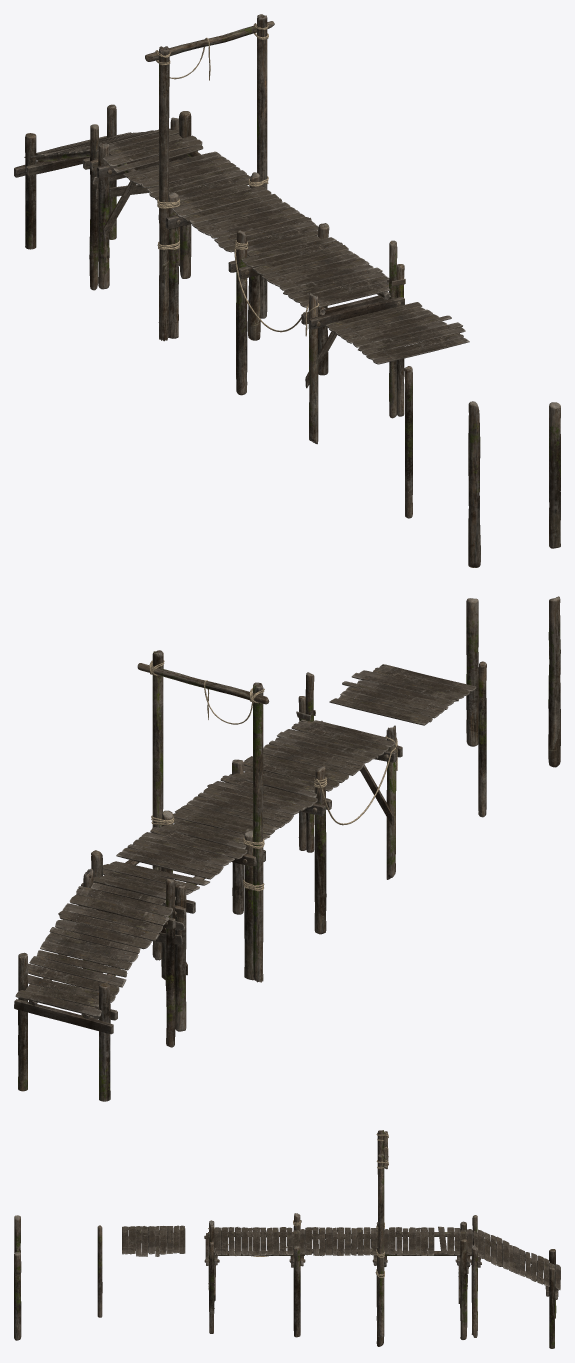
Rendered from modular_wooden_pier.gltf.
The picture shows the model from 3 angles, top to bottom: view 1: azimuth 30°, elevation 25°; view 2: azimuth 150°, elevation 25°; view 3: azimuth 270°, elevation 25°; orthographic projection. The views are drawn at different scales.
Parts seen in each view (by area): view 1: modular_wooden_pier_section_01, modular_wooden_pier_section_03, modular_wooden_pier_section_02, modular_wooden_pier_section_05, modular_wooden_pier_section_04, modular_wooden_pier_planks, modular_wooden_pier_poles; view 2: modular_wooden_pier_section_04, modular_wooden_pier_section_01, modular_wooden_pier_section_03, modular_wooden_pier_section_02, modular_wooden_pier_section_05, modular_wooden_pier_poles, modular_wooden_pier_planks; view 3: modular_wooden_pier_section_01, modular_wooden_pier_section_04, modular_wooden_pier_section_03, modular_wooden_pier_section_02, modular_wooden_pier_planks, modular_wooden_pier_section_05, modular_wooden_pier_poles.
Boxes of the visible parts, x1,y1,x2,y2 form: modular_wooden_pier_section_01: (228,223,405,444); modular_wooden_pier_section_03: (89,111,250,289); modular_wooden_pier_section_02: (158,172,318,340); modular_wooden_pier_section_05: (145,14,274,341); modular_wooden_pier_section_04: (14,104,179,290); modular_wooden_pier_planks: (325,302,469,364); modular_wooden_pier_poles: (404,366,560,567); modular_wooden_pier_section_04: (14,868,175,1101); modular_wooden_pier_section_01: (225,672,402,934); modular_wooden_pier_section_03: (81,827,247,1031); modular_wooden_pier_section_02: (160,775,317,980); modular_wooden_pier_section_05: (137,650,269,982); modular_wooden_pier_poles: (466,596,560,817); modular_wooden_pier_planks: (329,664,476,725); modular_wooden_pier_section_01: (204,1213,305,1337); modular_wooden_pier_section_04: (471,1215,560,1348); modular_wooden_pier_section_03: (376,1221,473,1339); modular_wooden_pier_section_02: (292,1222,389,1346); modular_wooden_pier_planks: (122,1225,185,1256); modular_wooden_pier_section_05: (375,1130,388,1337); modular_wooden_pier_poles: (14,1215,102,1340).
Size of the model in its own units: 3.1 by 7.52 by 19.03.
2 materials, 2 textured.
